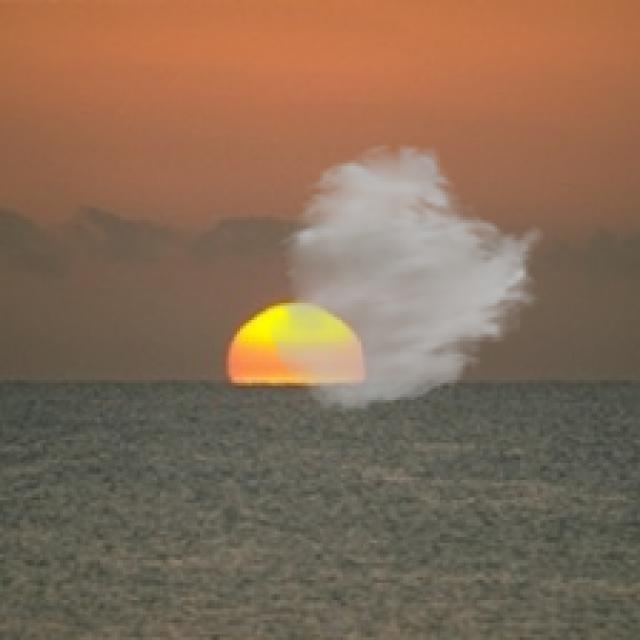Smoke: (266, 140, 548, 414)
